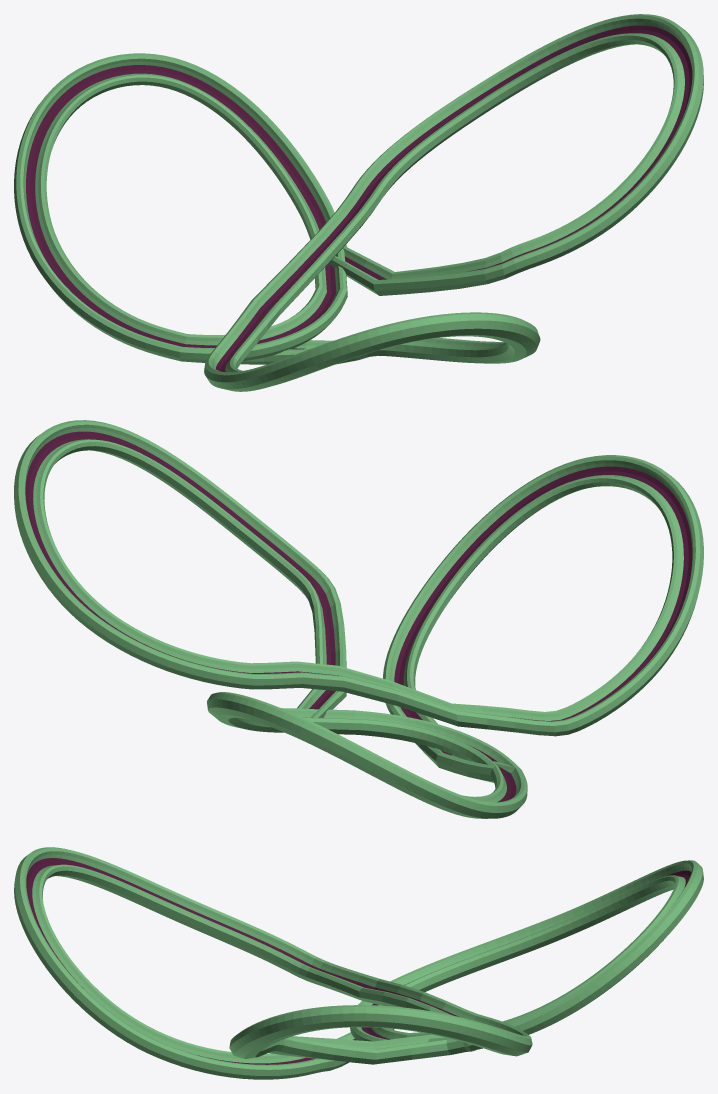
Rendered from this 1.fbx.
3 views of the same model, one above another, from view 1: azimuth 30°, elevation 25°; view 2: azimuth 150°, elevation 25°; view 3: azimuth 270°, elevation 25° (orthographic). The views are drawn at different scales.
Visible parts, largest first — view 1: level3upgrade2, level3basic, upgrade1lvl3, level3degrade; view 2: level3upgrade2, upgrade1lvl3, level3basic, level3degrade; view 3: upgrade1lvl3, level3upgrade2, level3basic, level3degrade.
Boxes of the visible parts, x1,y1,x2,y2 form: level3upgrade2: (252, 14, 703, 314); level3basic: (14, 53, 347, 361); upgrade1lvl3: (191, 299, 540, 391); level3degrade: (180, 248, 347, 362); level3upgrade2: (14, 420, 457, 726); upgrade1lvl3: (383, 455, 703, 782); level3basic: (207, 692, 527, 818); level3degrade: (287, 708, 518, 774); upgrade1lvl3: (14, 847, 408, 1079); level3upgrade2: (229, 979, 532, 1064); level3basic: (390, 860, 703, 1054); level3degrade: (350, 984, 475, 1051).
Size of the model in its own units: 1695 by 699 by 1901.
